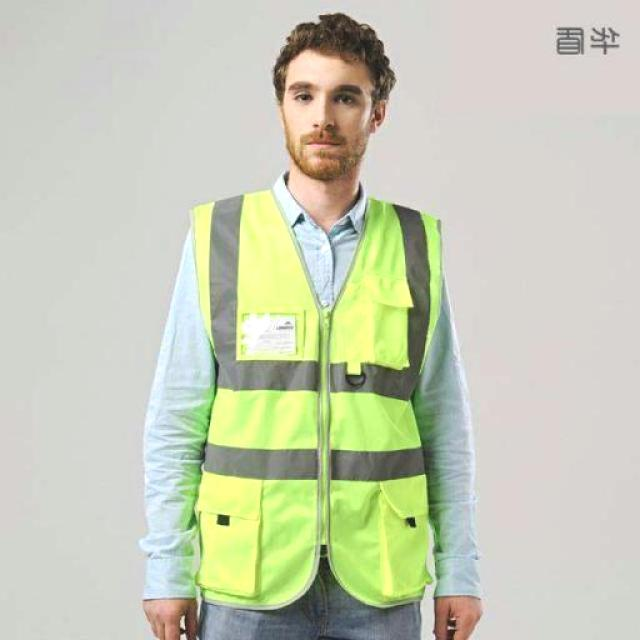face_nomask: (282, 74, 372, 168)
hand_noglove: (429, 585, 492, 640), (138, 596, 211, 640)
head_nohelmet: (272, 10, 393, 74)
person: (120, 9, 492, 640)
vest: (184, 187, 453, 606)
